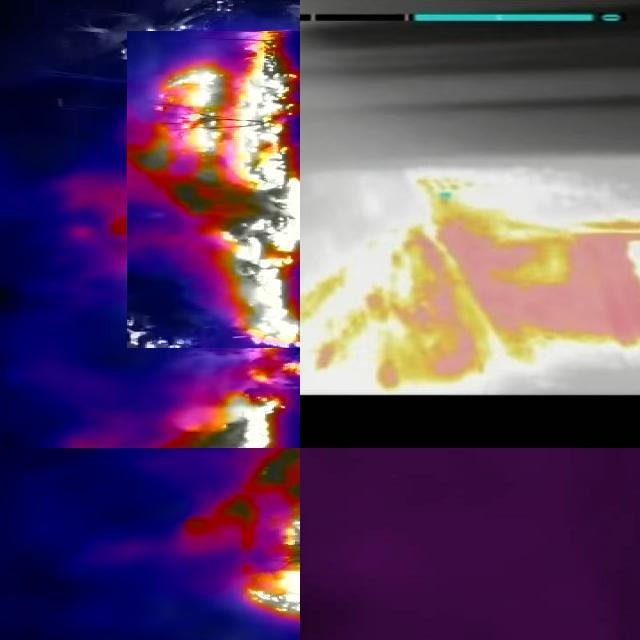fire: (301, 176, 640, 396), (127, 32, 301, 349), (207, 449, 301, 640), (165, 393, 289, 449), (197, 352, 301, 390)
